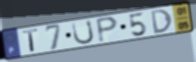5: (128, 11, 149, 38)
7: (44, 23, 63, 52)
D: (149, 8, 174, 35)
P: (95, 16, 120, 44)
T: (21, 28, 39, 54)
U: (71, 19, 96, 46)
